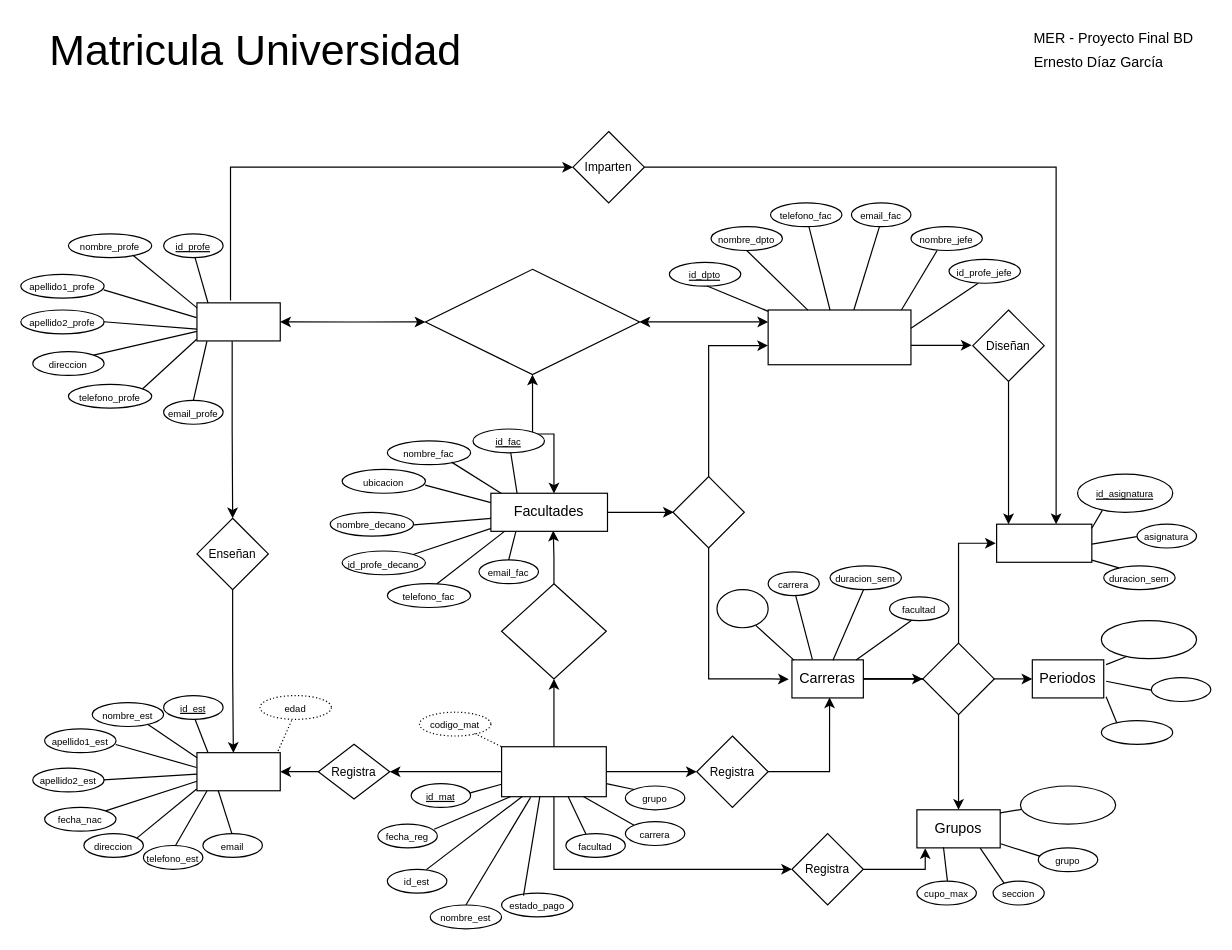
Image size: 1232x950. Some labels were removed from this diagram. The box of each missing label's shape, as (x1, y1, x2, y2) in pixels:
1-Dpto y Fac Coordinan 2- Profesores diirigen: (424, 268, 640, 375)
Asignaturas: (995, 523, 1092, 562)
año: (1150, 677, 1211, 702)
Contienen: (922, 642, 994, 715)
Departamentos: (767, 309, 911, 365)
Estudiantes: (196, 751, 280, 791)
id_carrera: (716, 588, 768, 628)
id_grupo: (1019, 785, 1116, 824)
id_periodo: (1100, 619, 1197, 659)
Matriculas: (500, 746, 606, 797)
Organizan: (672, 475, 744, 548)
Profesores: (196, 302, 280, 341)
Registra y Orienta: (500, 583, 606, 679)
semestre: (1100, 719, 1173, 744)
